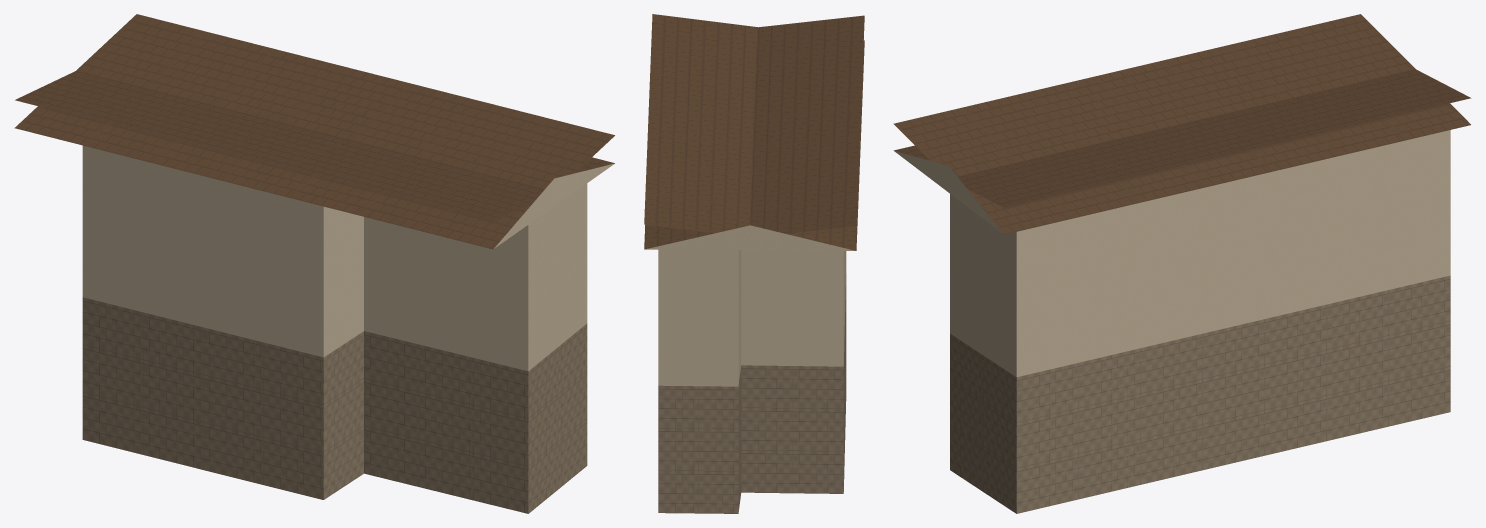
Rendered from bld_c42_48_188.gltf.
3 renders of one model, left to right at view 1: azimuth 30°, elevation 25°; view 2: azimuth 150°, elevation 25°; view 3: azimuth 270°, elevation 25°, orthographic. The views are drawn at different scales.
Parts seen in each view (by area): view 1: bld_c42_48_188; view 2: bld_c42_48_188; view 3: bld_c42_48_188.
Boxes of the visible parts, box(x1,y1,x2,y2) form: bld_c42_48_188: box(14, 14, 614, 513); bld_c42_48_188: box(644, 14, 864, 513); bld_c42_48_188: box(893, 14, 1471, 513).
Bounding box in the file's own units: 15.53 × 11.8 × 19.56.
4 materials, 4 textured.
